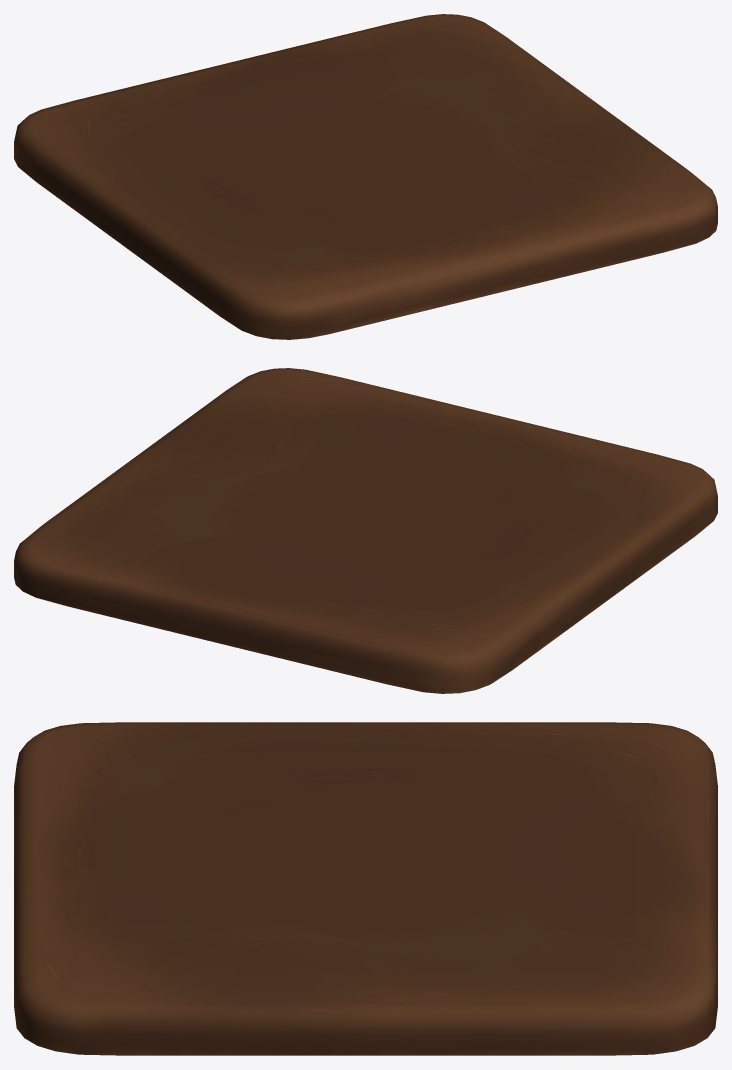
Rendered from Kotatsu.FBX.
3 views of the same model, one above another, from view 1: azimuth 30°, elevation 25°; view 2: azimuth 150°, elevation 25°; view 3: azimuth 270°, elevation 25° (orthographic). The views are drawn at different scales.
Visible parts, largest first — view 1: bottomTable; view 2: bottomTable; view 3: bottomTable.
Part boxes in pixels (<box>): bottomTable: <box>14,14,717,339</box>; bottomTable: <box>14,368,717,693</box>; bottomTable: <box>14,722,717,1055</box>.
Size of the model in its own units: 29.25 by 1.97 by 29.25.
Materials: 1 (1 with a texture image).
